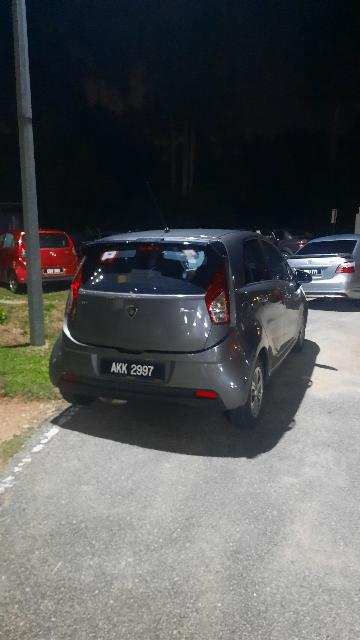License_Plate: (98, 356, 169, 384)
car: (49, 228, 310, 431)
